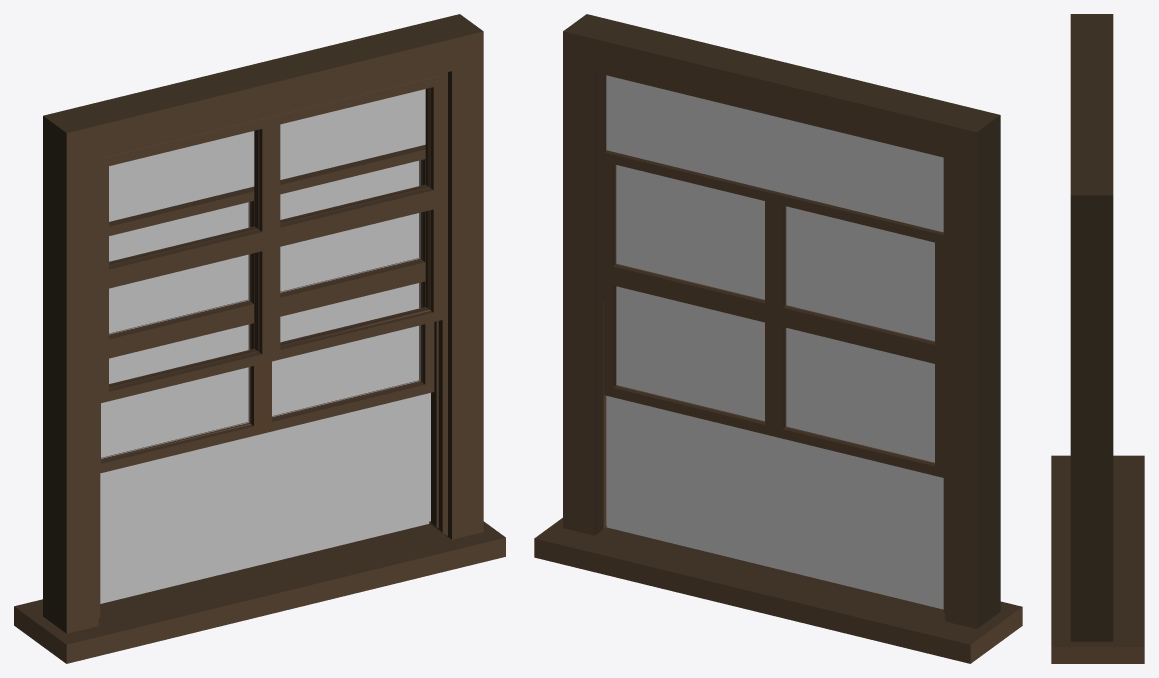
Rendered from window.fbx.
3 renders of one model, left to right at view 1: azimuth 30°, elevation 25°; view 2: azimuth 150°, elevation 25°; view 3: azimuth 270°, elevation 25°, orthographic. The views are drawn at different scales.
Parts seen in each view (by area): view 1: cerceve, Plane; view 2: Plane, cerceve; view 3: cerceve.
Boxes of the visible parts, x1=… form: cerceve: x1=14, y1=14, x2=505, y2=663; Plane: x1=100, y1=89, x2=430, y2=603; Plane: x1=606, y1=75, x2=943, y2=609; cerceve: x1=534, y1=14, x2=1022, y2=663; cerceve: x1=1051, y1=14, x2=1144, y2=663.
Bounding box in the file's own units: 1.75 × 1.98 × 0.3614.
